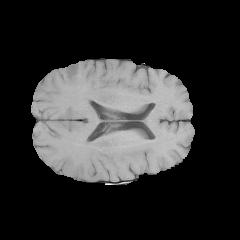glioma: (55, 62, 83, 86)
